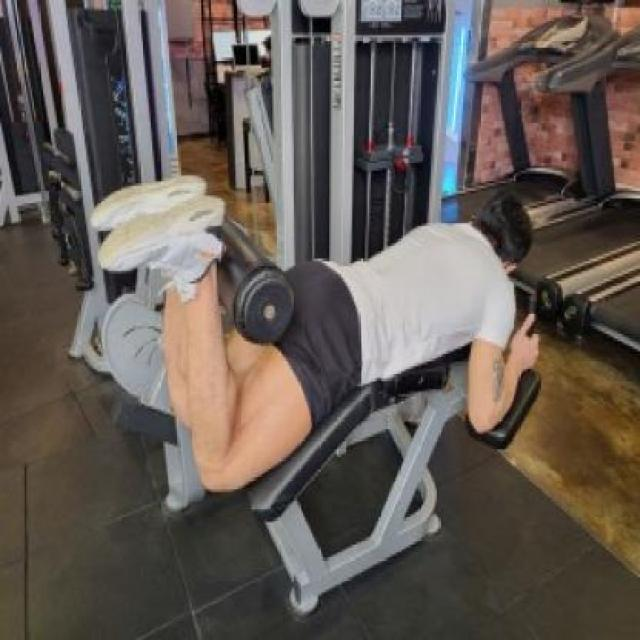reg curl machine: (63, 0, 545, 623)
